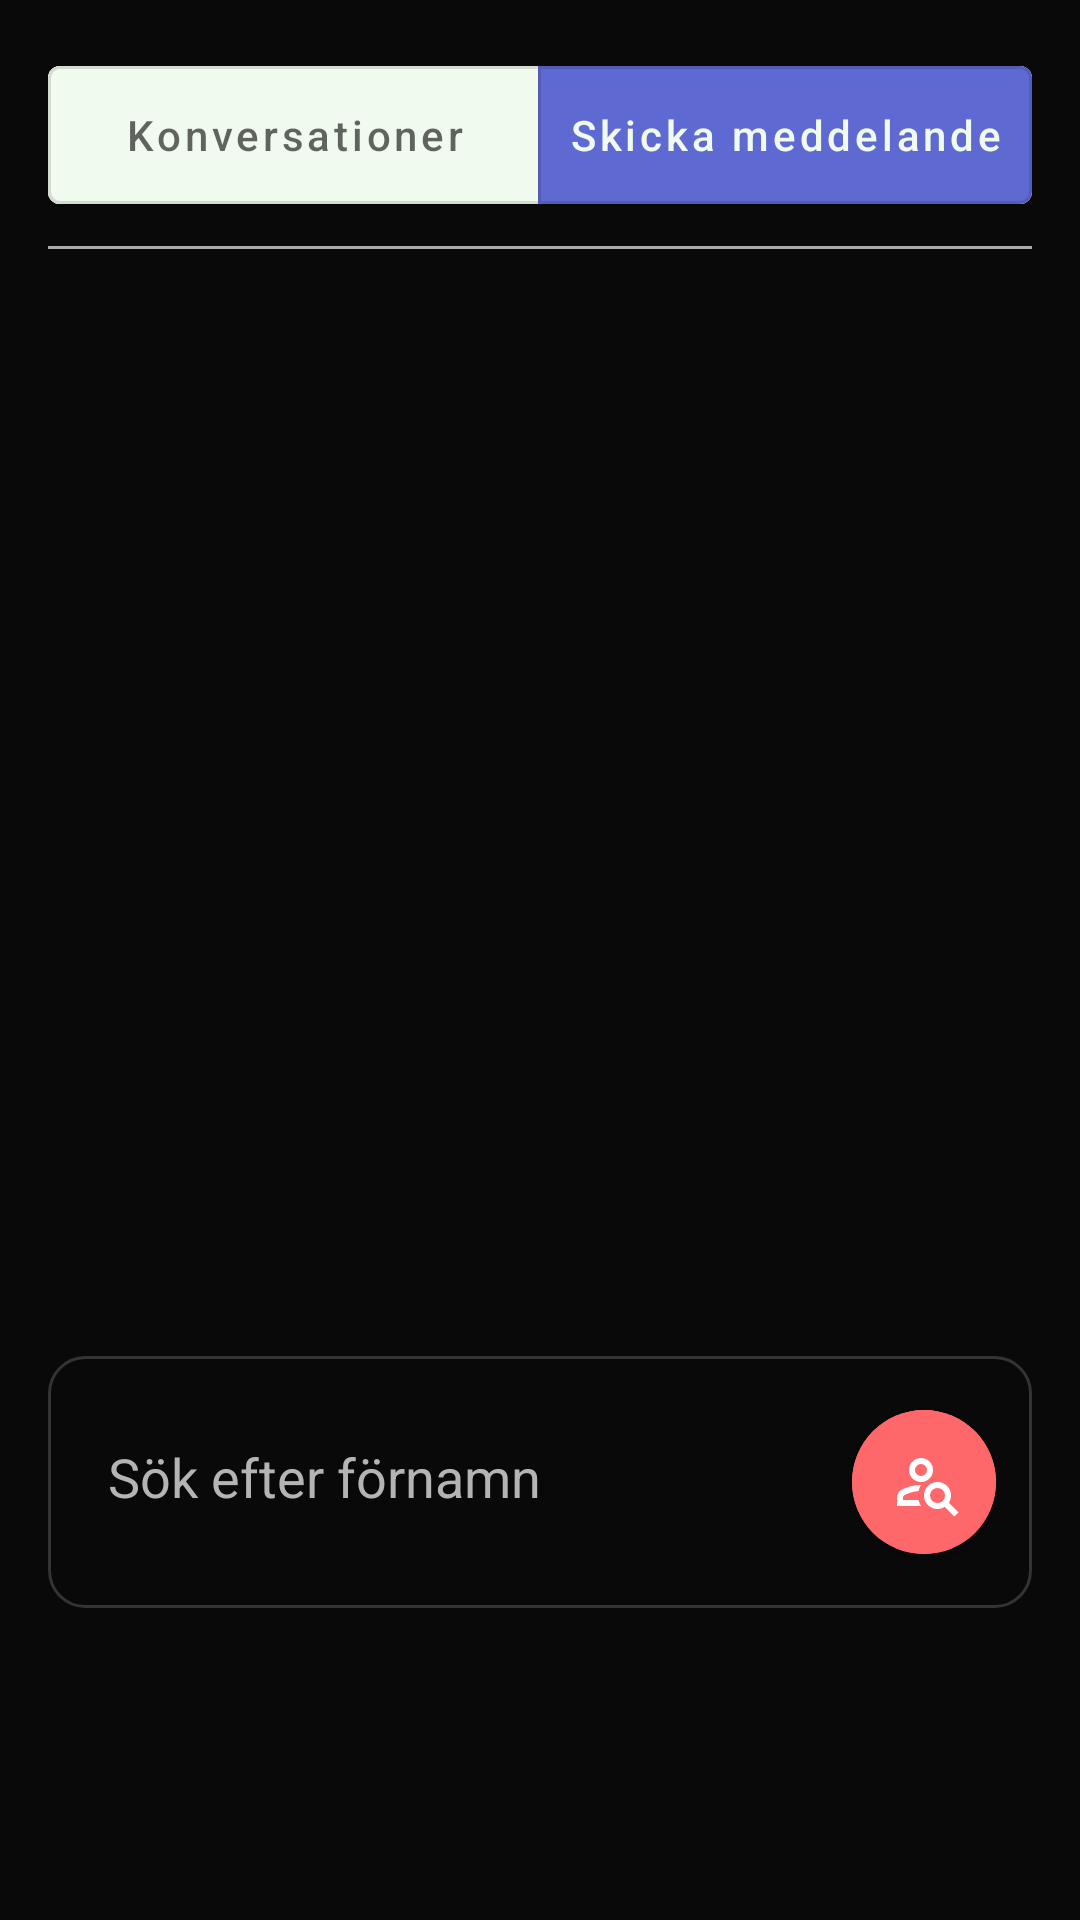

Icons on this 1080*1920 Android screen, each with the point to tap as (x,y):
person search: (924,1482)
